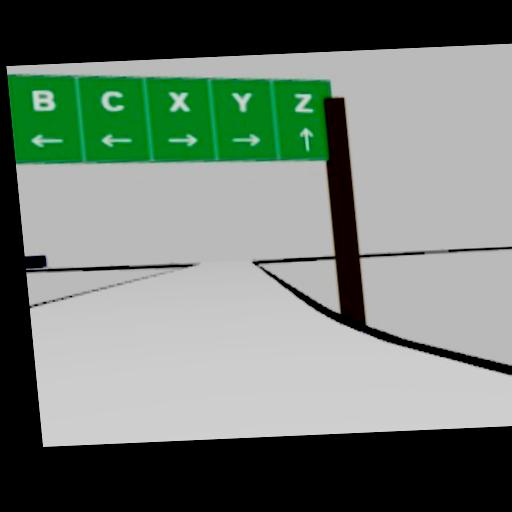B: (30, 87, 56, 110)
C: (98, 88, 124, 111)
Left: (97, 130, 132, 147), (29, 132, 64, 147)
Right: (230, 131, 263, 146), (166, 131, 198, 146)
Straight: (297, 126, 314, 150)
X: (166, 88, 190, 111)
Y: (230, 90, 254, 112)
Z: (291, 90, 315, 112)
